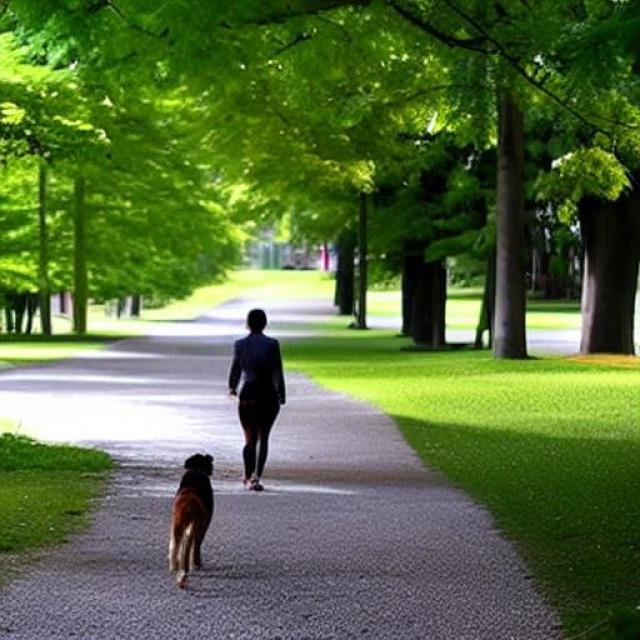Unleashed_Dog: (168, 388, 278, 588)
